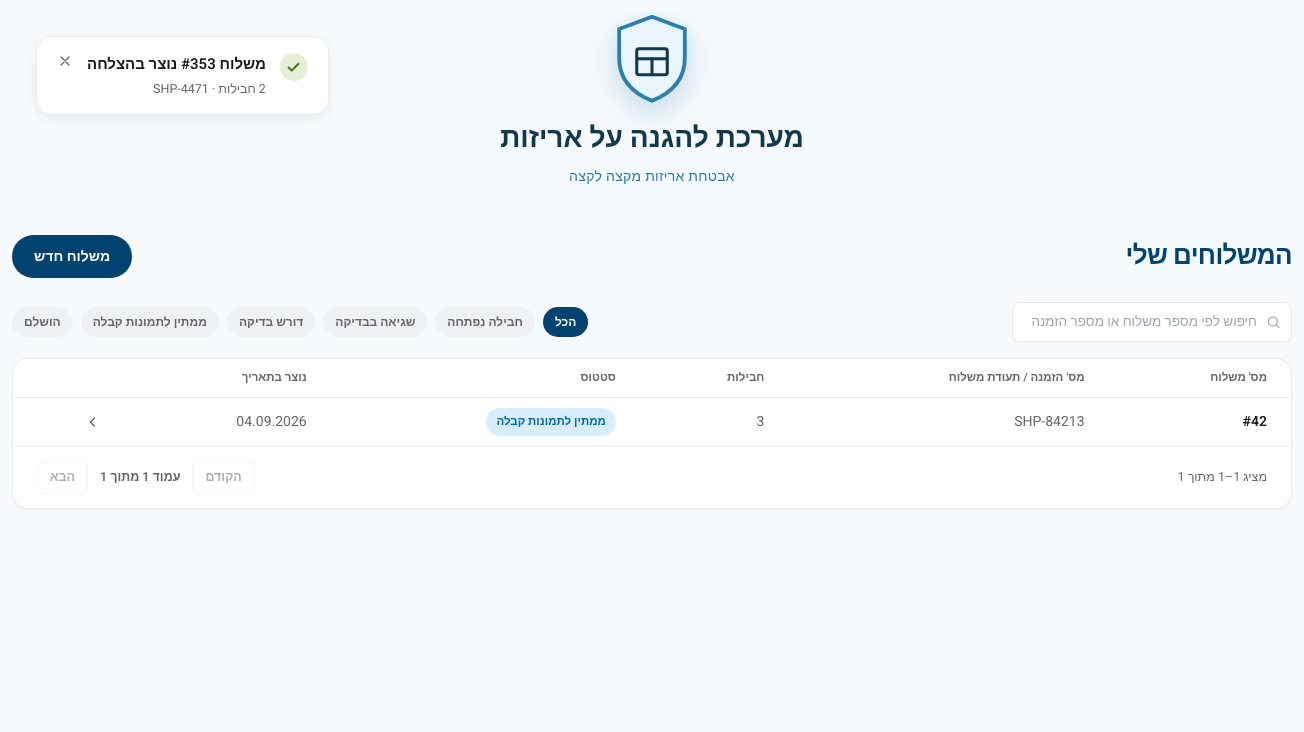
Test: DeliveriesPage › lets the confirmation be dismissed by hand
Expected: the message "משלוח #353 נוצר בהצלחה 2 חבילות · SHP-4471" is shown, [36,36,329,115]
Click the button named "סגירת ההודעה" at (65, 61), box [57,53,73,69]
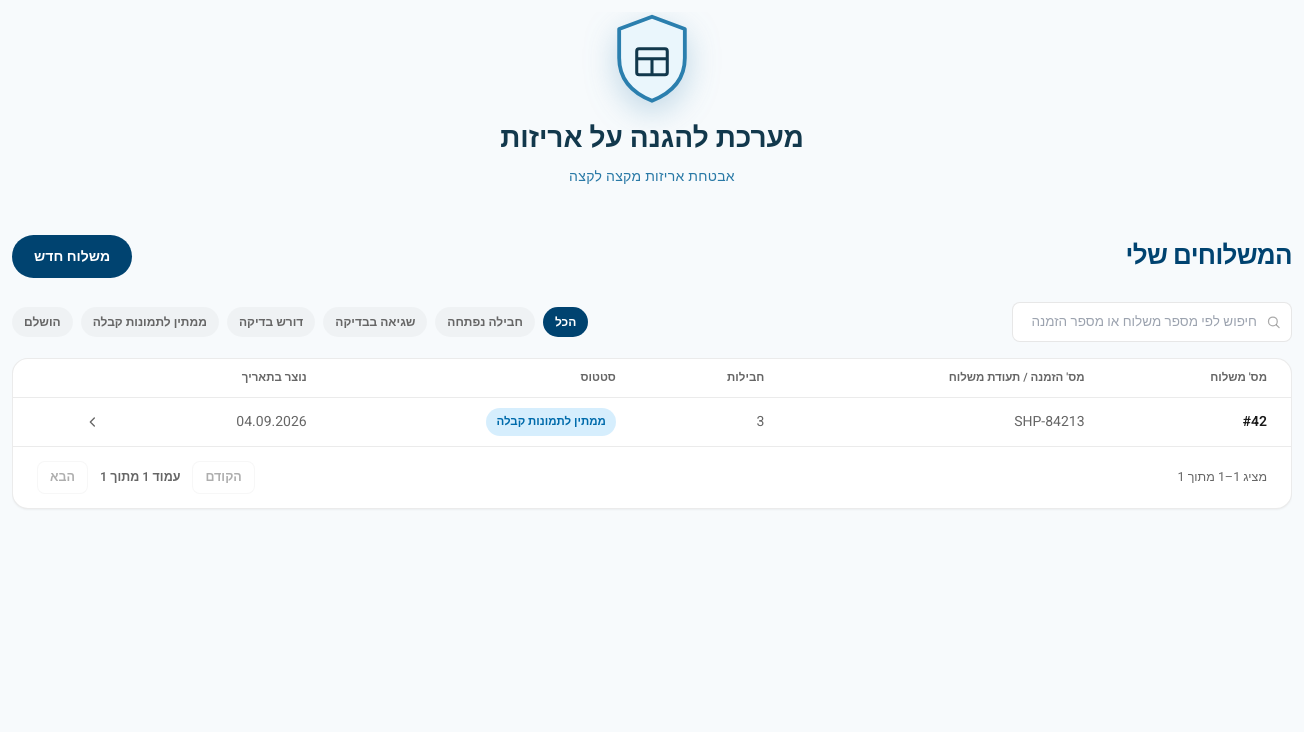
Result: the message "משלוח #353 נוצר בהצלחה 2 חבילות · SHP-4471" is gone
